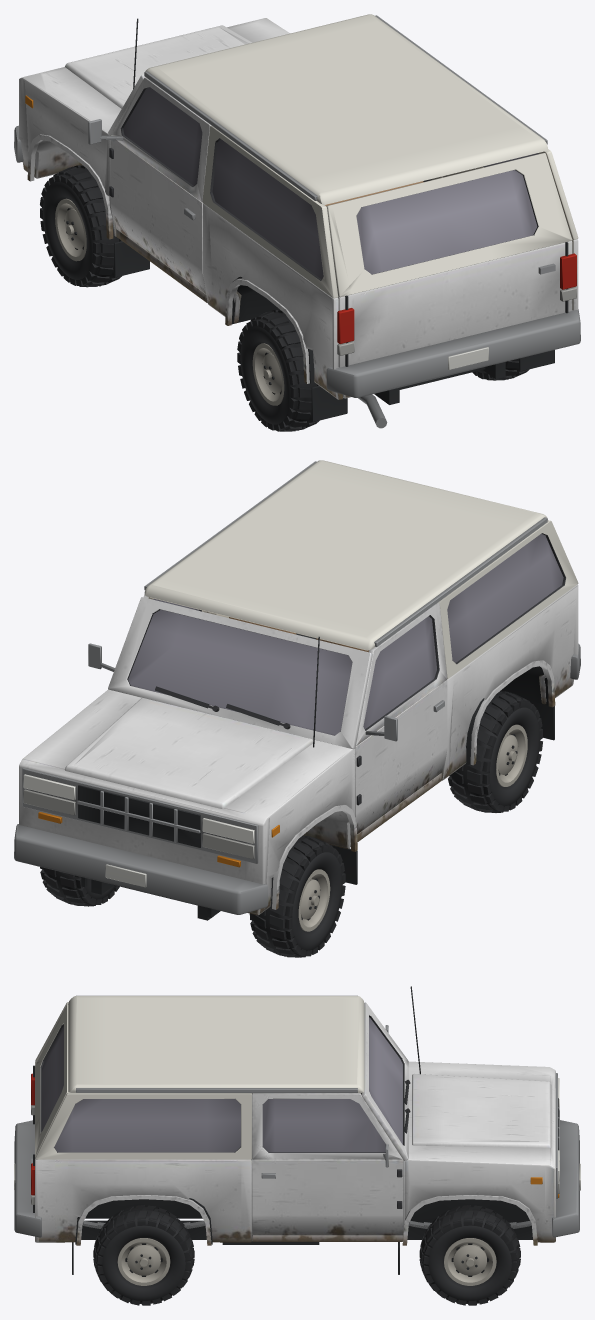
Rendered from squarebody.m.glb.
3 renders of one model, top to bottom at view 1: azimuth 30°, elevation 25°; view 2: azimuth 150°, elevation 25°; view 3: azimuth 270°, elevation 25°, orthographic. The views are drawn at different scales.
Visible parts, largest first — view 1: body, door_FL, wheel_FL, wheel_RL; view 2: body, door_FL, wheel_FL, wheel_RL, wheel_FR; view 3: body, door_FR, wheel_RR, wheel_FR.
Boxes of the visible parts, <box> form: body: <box>14,14,580,428</box>; door_FL: <box>88,77,211,293</box>; wheel_FL: <box>40,165,121,287</box>; wheel_RL: <box>237,309,319,431</box>; body: <box>14,460,580,920</box>; door_FL: <box>355,602,447,834</box>; wheel_FL: <box>249,835,345,957</box>; wheel_RL: <box>448,691,542,812</box>; wheel_FR: <box>40,867,119,906</box>; body: <box>14,986,580,1274</box>; door_FR: <box>252,1093,403,1235</box>; wheel_RR: <box>93,1205,194,1305</box>; wheel_FR: <box>419,1205,520,1305</box>.
Bounding box in the file's own units: 2.44 × 2.16 × 4.7.
Materials: 17 (1 with a texture image).
